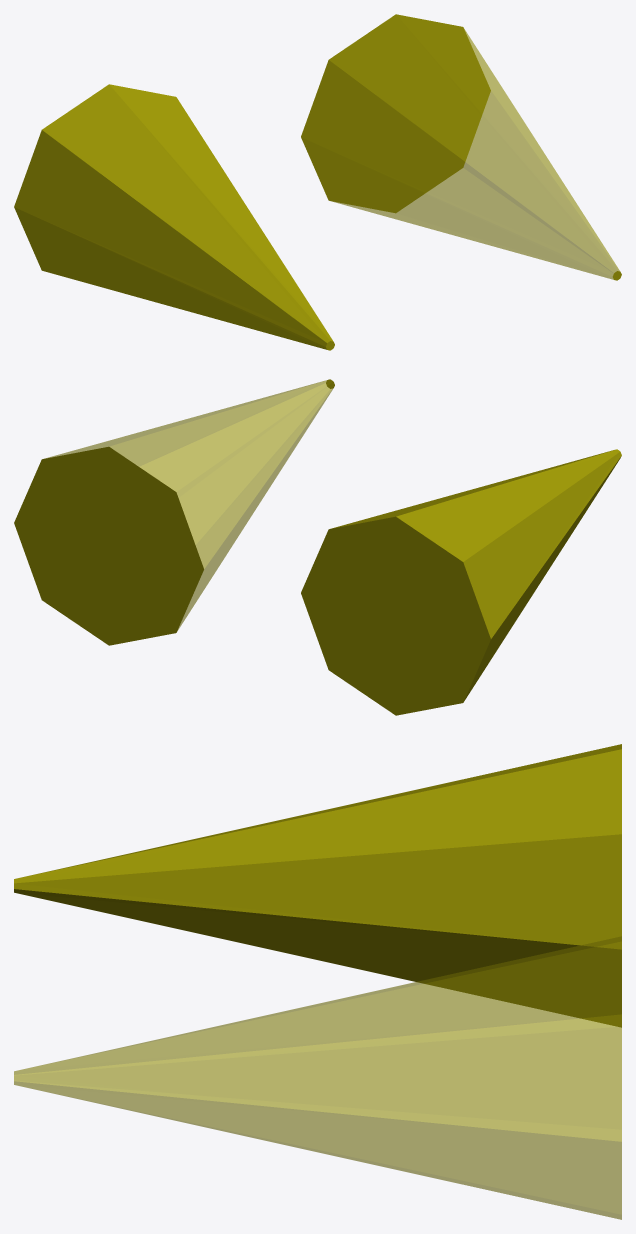
Rendered from Bunner_T2_BlueimpulseNG.obj.
3 views of the same model, one above another, from view 1: azimuth 30°, elevation 25°; view 2: azimuth 150°, elevation 25°; view 3: azimuth 270°, elevation 25° (orthographic). The views are drawn at different scales.
Parts seen in each view (by area): view 1: ShapeIndexedFaceSet.025_ShapeIndexedFaceSet.026, ShapeIndexedFaceSet.023_ShapeIndexedFaceSet.024, ShapeIndexedFaceSet.022_ShapeIndexedFaceSet.023; view 2: ShapeIndexedFaceSet.022_ShapeIndexedFaceSet.023, ShapeIndexedFaceSet.024_ShapeIndexedFaceSet.025, ShapeIndexedFaceSet.025_ShapeIndexedFaceSet.026, ShapeIndexedFaceSet.023_ShapeIndexedFaceSet.024; view 3: ShapeIndexedFaceSet.025_ShapeIndexedFaceSet.026, ShapeIndexedFaceSet.023_ShapeIndexedFaceSet.024.
Part boxes in pixels (x1=…): ShapeIndexedFaceSet.025_ShapeIndexedFaceSet.026: x1=14, y1=84, x2=333, y2=349; ShapeIndexedFaceSet.023_ShapeIndexedFaceSet.024: x1=301, y1=14, x2=619, y2=279; ShapeIndexedFaceSet.022_ShapeIndexedFaceSet.023: x1=301, y1=14, x2=621, y2=280; ShapeIndexedFaceSet.022_ShapeIndexedFaceSet.023: x1=14, y1=379, x2=334, y2=645; ShapeIndexedFaceSet.024_ShapeIndexedFaceSet.025: x1=301, y1=516, x2=490, y2=715; ShapeIndexedFaceSet.025_ShapeIndexedFaceSet.026: x1=330, y1=449, x2=621, y2=701; ShapeIndexedFaceSet.023_ShapeIndexedFaceSet.024: x1=45, y1=379, x2=334, y2=631; ShapeIndexedFaceSet.025_ShapeIndexedFaceSet.026: x1=14, y1=744, x2=621, y2=1027; ShapeIndexedFaceSet.023_ShapeIndexedFaceSet.024: x1=14, y1=936, x2=621, y2=1219.
Size of the model in its own units: 16.3 by 6.5 by 13.1.
